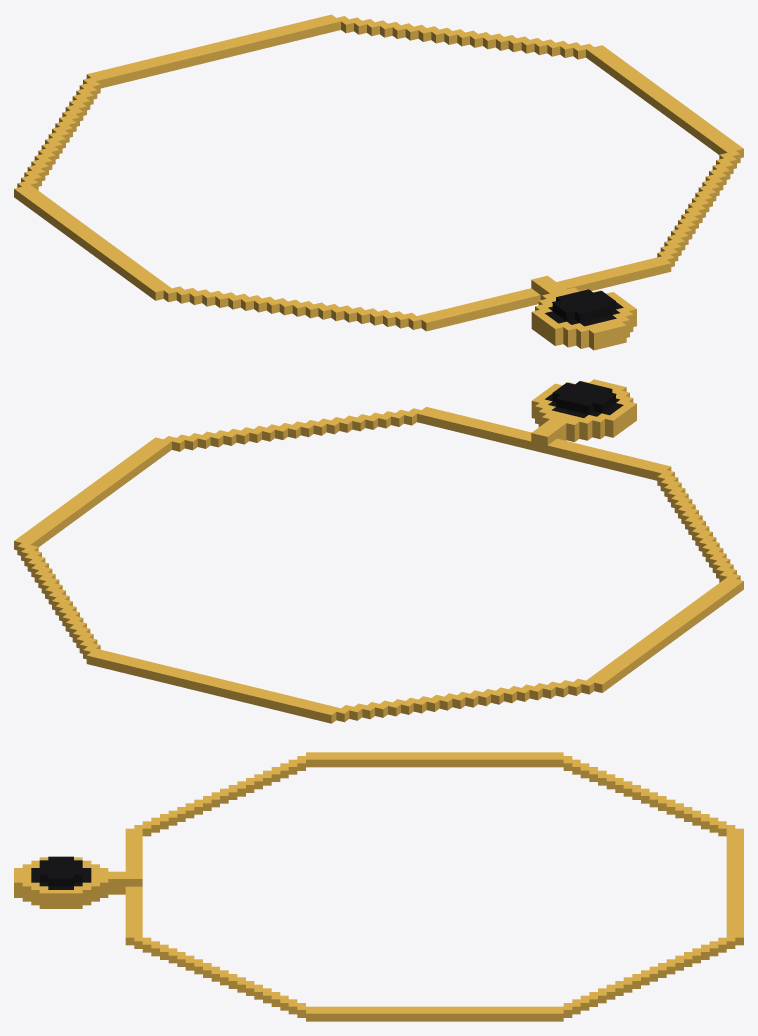
File: onyx_gold_pendant_necklace.glb
3 renders of one model, top to bottom at view 1: azimuth 30°, elevation 25°; view 2: azimuth 150°, elevation 25°; view 3: azimuth 270°, elevation 25°, orthographic. The views are drawn at different scales.
Parts seen in each view (by area): view 1: onyx_gold_pendant_necklace:compound; view 2: onyx_gold_pendant_necklace:compound; view 3: onyx_gold_pendant_necklace:compound.
Boxes of the visible parts, x1,y1,x2,y2 form: onyx_gold_pendant_necklace:compound: [14, 14, 743, 350]; onyx_gold_pendant_necklace:compound: [14, 379, 743, 723]; onyx_gold_pendant_necklace:compound: [14, 752, 743, 1021].
Size of the model in its own units: 0.144 by 0.006 by 0.17.
